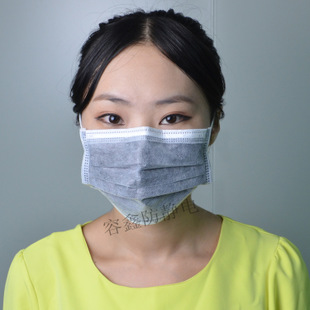face_mask: (81, 48, 206, 207)
